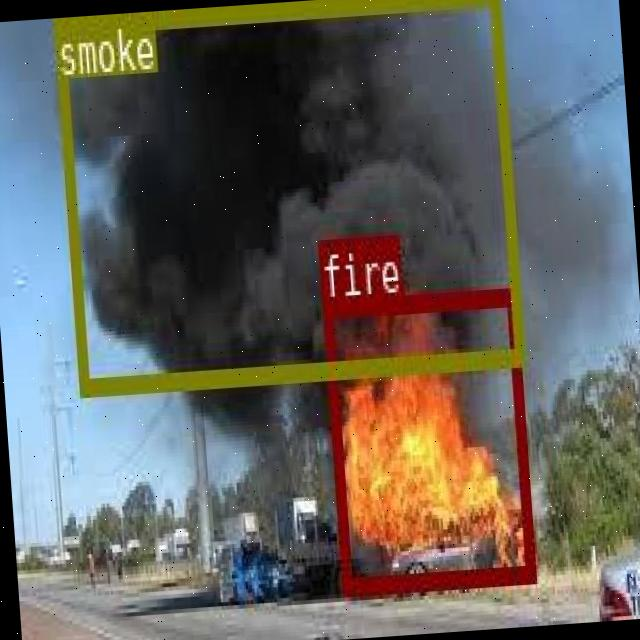fire: (321, 286, 534, 592)
smoke: (51, 0, 523, 394)
